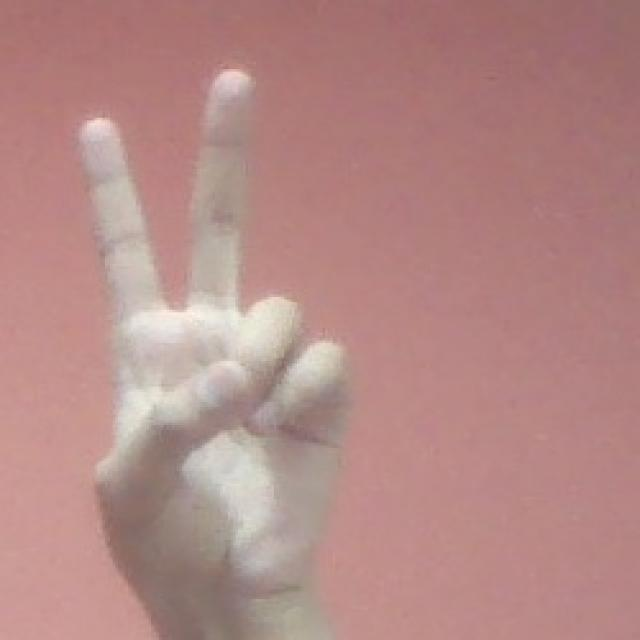Numeric-2: (81, 62, 350, 614)
